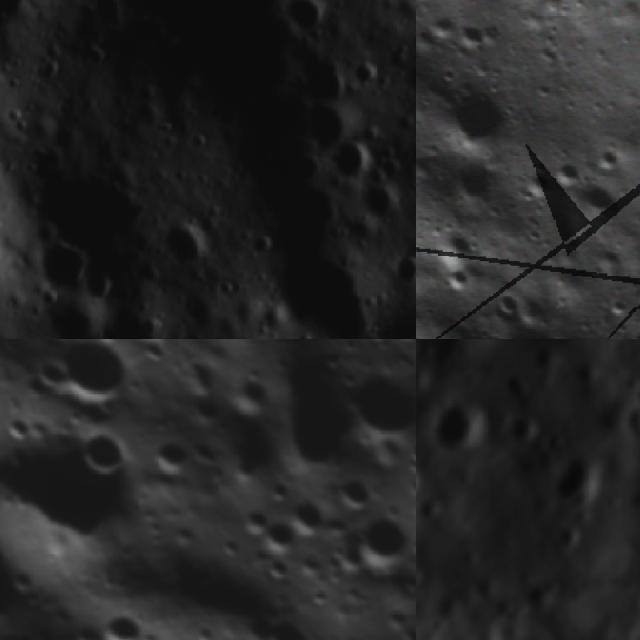crater: (0, 379, 170, 585), (230, 339, 385, 489), (265, 238, 377, 339), (34, 339, 151, 426), (333, 348, 416, 465), (425, 74, 522, 170), (0, 486, 60, 640), (416, 386, 506, 477), (543, 444, 619, 526), (342, 501, 416, 584), (68, 415, 140, 488), (436, 156, 508, 227), (561, 176, 627, 240), (221, 366, 281, 426), (30, 230, 88, 290), (424, 223, 481, 278), (22, 347, 78, 402), (322, 533, 377, 588), (156, 220, 216, 268), (506, 159, 559, 213), (247, 605, 324, 640), (324, 140, 385, 184), (174, 352, 225, 403), (144, 432, 196, 482), (416, 4, 465, 56), (91, 602, 156, 640), (256, 515, 304, 563), (232, 498, 280, 545), (544, 316, 639, 339), (491, 312, 571, 339), (451, 20, 496, 66), (438, 315, 521, 339), (0, 401, 40, 449), (361, 179, 405, 222), (278, 0, 330, 36), (545, 156, 588, 199), (257, 549, 299, 591), (439, 263, 474, 299), (264, 474, 299, 510), (393, 430, 416, 481), (244, 230, 282, 258), (348, 58, 382, 89), (402, 348, 416, 411), (66, 619, 107, 640), (401, 383, 416, 439), (397, 59, 416, 102), (334, 627, 382, 640)
